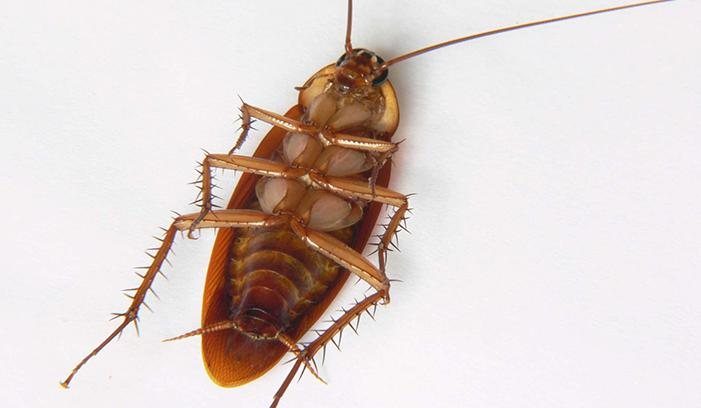cockroach: (197, 44, 404, 395)
